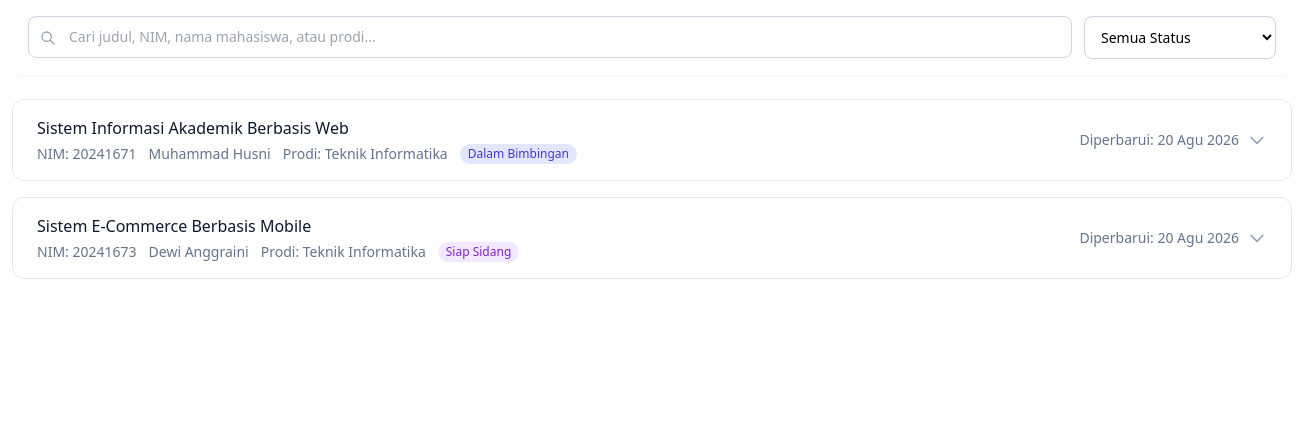
Test: DosenBimbinganMahasiswaBinaan › expand card — detail mahasiswa + tombol aksi
The width and height of the screenshot is (1304, 447).
What coordinates should you click on to do the following:
click the heading "Sistem Informasi Akademik Berbasis Web"
I would click on:
 (193, 128)
Its box is left=37, top=117, right=349, bottom=139.
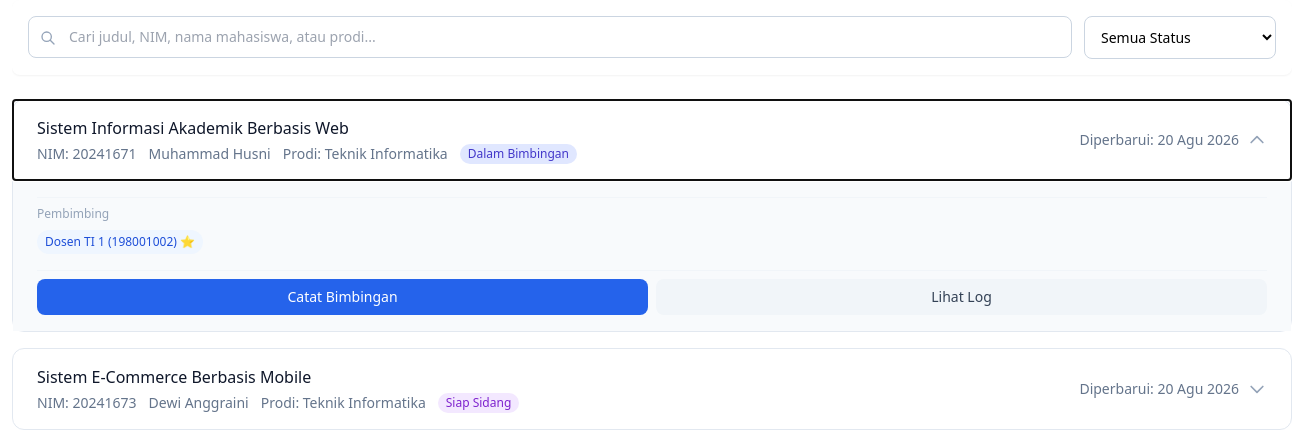
Now the text "Dosen TI 1 (198001002) ⭐" is shown, box left=37, top=230, right=203, bottom=254
Now the button "Catat Bimbingan" is shown, box left=37, top=279, right=648, bottom=315
Now the button "Lihat Log" is shown, box left=656, top=279, right=1267, bottom=315
